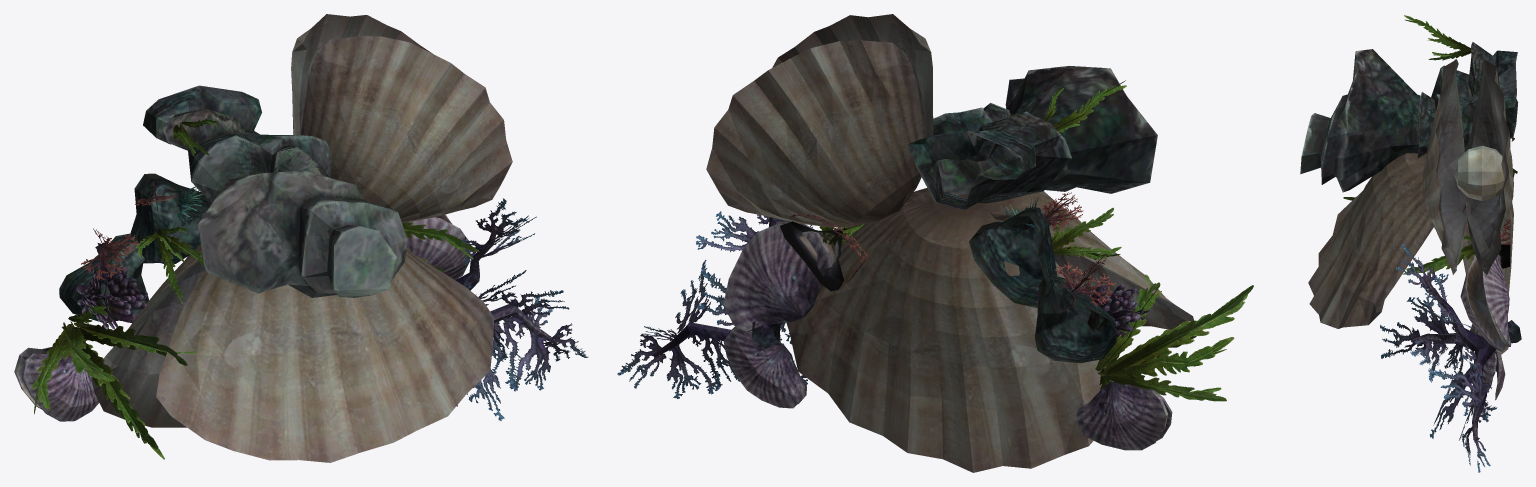
File: huodong_fuben_417_zhiwu01.obj
3 views of the same model, side by side, from view 1: azimuth 30°, elevation 25°; view 2: azimuth 150°, elevation 25°; view 3: azimuth 270°, elevation 25° (orthographic). The views are drawn at different scales.
Parts seen in each view (by area): view 1: huodong_fuben_417_zhiwu01; view 2: huodong_fuben_417_zhiwu01; view 3: huodong_fuben_417_zhiwu01.
Boxes of the visible parts, x1,y1,x2,y2 form: huodong_fuben_417_zhiwu01: (14, 14, 588, 462); huodong_fuben_417_zhiwu01: (617, 14, 1253, 472); huodong_fuben_417_zhiwu01: (1300, 15, 1521, 472).
Size of the model in its own units: 183 by 127 by 76.67.
3 materials, 3 textured.
